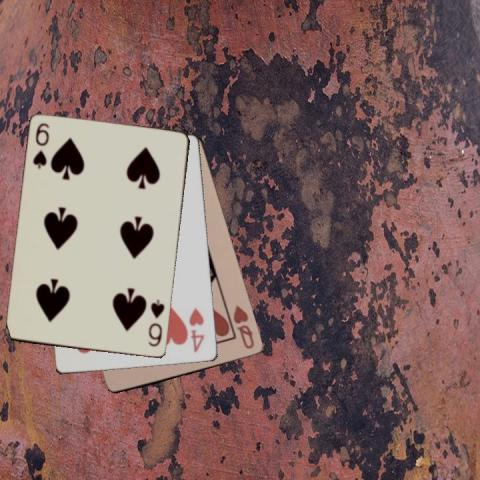4h: (188, 305, 206, 354)
6s: (145, 296, 166, 348), (30, 120, 51, 171)
Qh: (231, 302, 256, 351)
